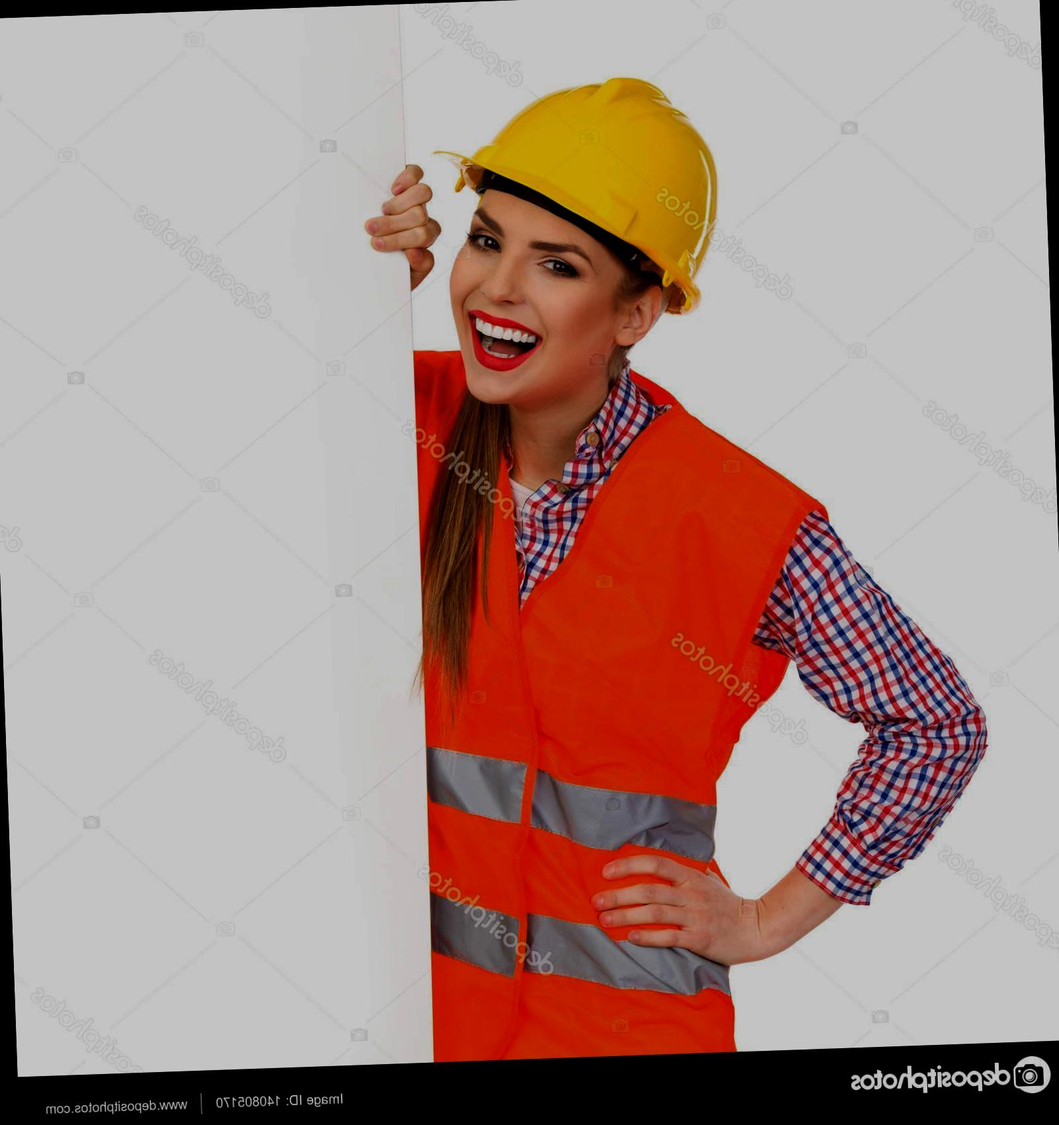helmet: (450, 68, 729, 346)
person: (388, 58, 914, 1065)
